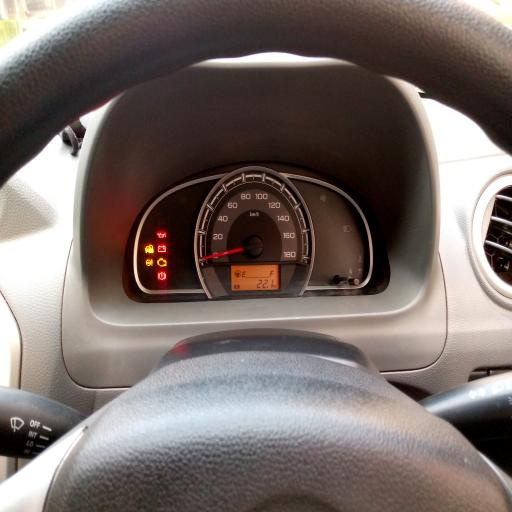brake_system_fault: (158, 272, 166, 280)
car_closed: (144, 244, 154, 254)
check_engine: (157, 258, 167, 268)
oil: (157, 232, 166, 238)
vehicle_charging: (158, 245, 166, 252)
